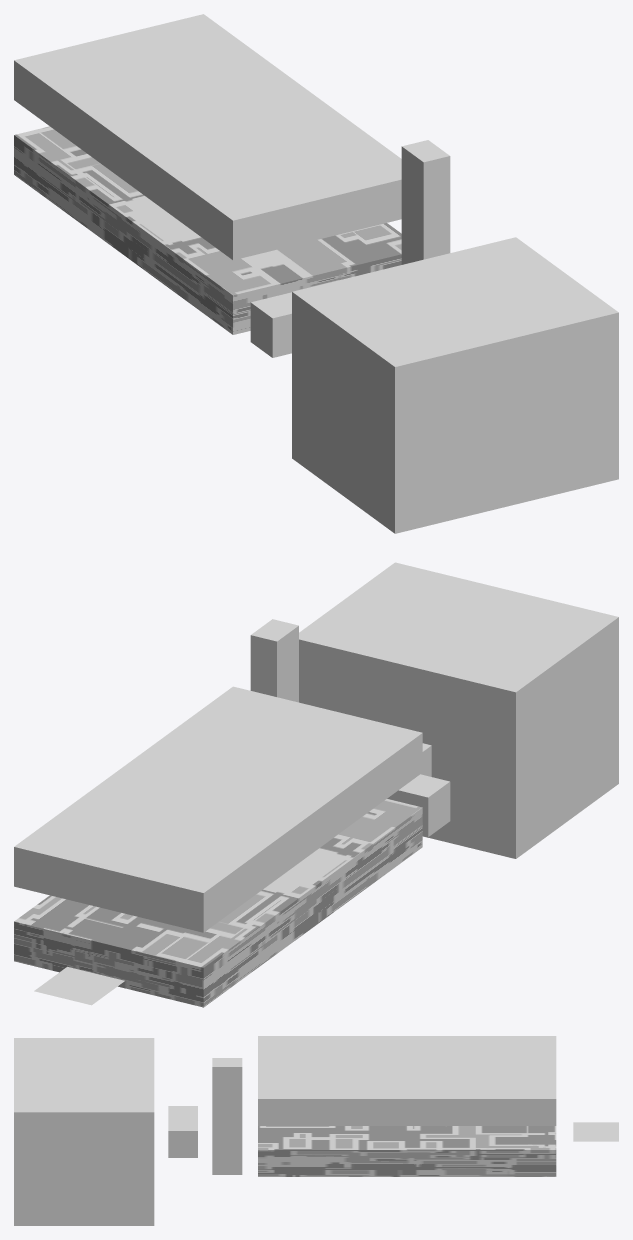
File: Door300123.fbx
3 renders of one model, top to bottom at view 1: azimuth 30°, elevation 25°; view 2: azimuth 150°, elevation 25°; view 3: azimuth 270°, elevation 25°, orthographic. The views are drawn at different scales.
Visible parts, largest first — view 1: Cube, Cube.004, Cube.003, Cube.001; view 2: Cube, Cube.004, Cube.003, Cube.001, Plane; view 3: Cube.004, Cube, Cube.003, Cube.001, Cube.002, Plane.
Boxes of the visible parts, box(x1,y1,x2,y2) form: Cube: box(292, 237, 618, 533); Cube.004: box(14, 14, 401, 260); Cube.003: box(14, 126, 401, 334); Cube.001: box(250, 140, 450, 357); Cube: box(299, 562, 618, 858); Cube.004: box(14, 686, 422, 932); Cube.003: box(14, 799, 422, 1007); Cube.001: box(250, 619, 450, 836); Plane: box(34, 966, 124, 1005); Cube.004: box(258, 1036, 556, 1125); Cube: box(14, 1038, 154, 1225); Cube.003: box(258, 1126, 556, 1176); Cube.001: box(212, 1058, 242, 1174); Cube.002: box(168, 1106, 197, 1157); Plane: box(573, 1122, 618, 1141).
Size of the model in its own units: 1180 by 1120 by 4056.
3 materials, 1 textured.
